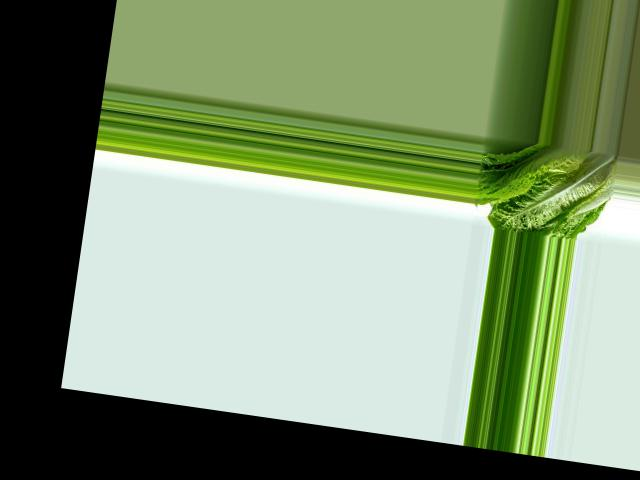lettuce: (470, 135, 618, 243)
